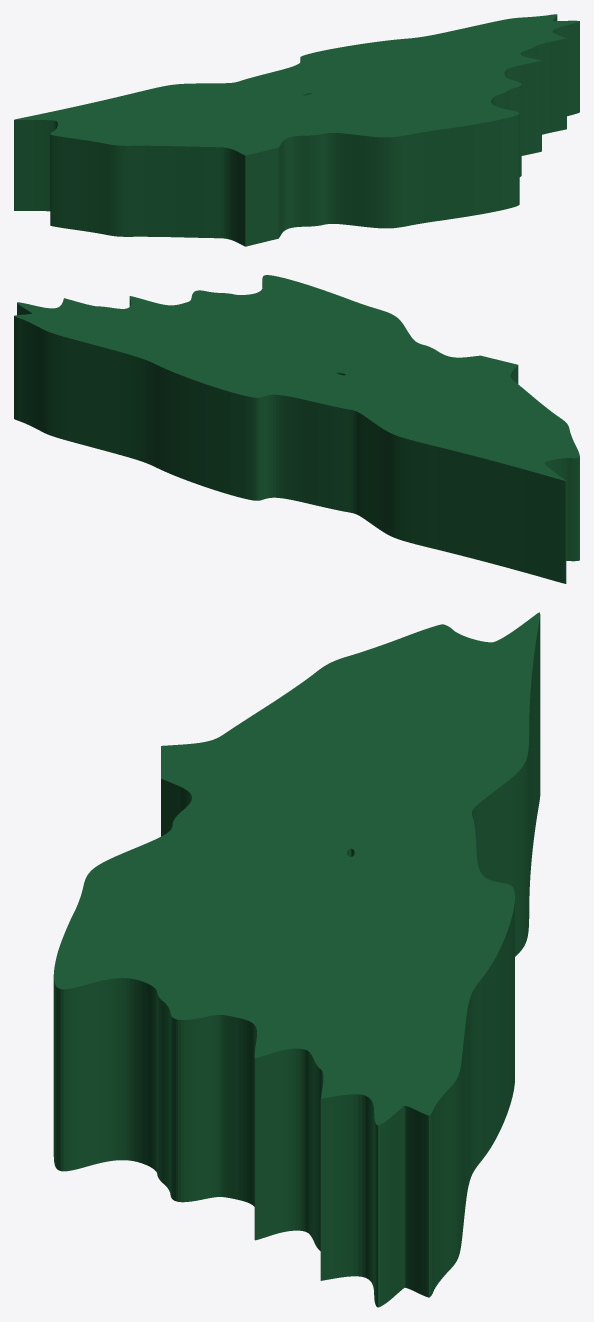
Rendered from Asia_12.obj.
3 renders of one model, top to bottom at view 1: azimuth 30°, elevation 25°; view 2: azimuth 150°, elevation 25°; view 3: azimuth 270°, elevation 25°, orthographic. The views are drawn at different scales.
Visible parts, largest first — view 1: Asia_12_path4258; view 2: Asia_12_path4258; view 3: Asia_12_path4258.
Boxes of the visible parts, x1,y1,x2,y2 form: Asia_12_path4258: (14, 14, 579, 246); Asia_12_path4258: (14, 275, 579, 583); Asia_12_path4258: (53, 612, 540, 1307).
Bounding box in the file's own units: 0.6042 × 0.1 × 0.2421.
